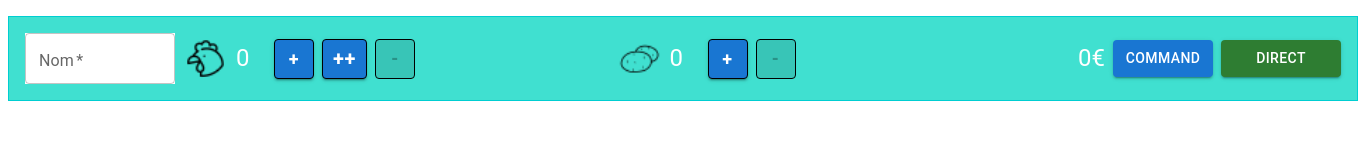
Test: OrderForm › calculates price correctly
The image size is (1366, 160).
Type "Test User" into the field labelled "Nom *" at coordinates (100, 58), box [25,33,175,84]
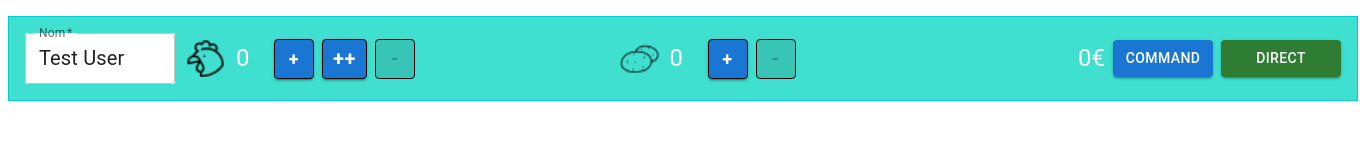
Press the mouse on the button titled "Ajouter un poulet entier" at coordinates (344, 58), box [322,38,367,78]
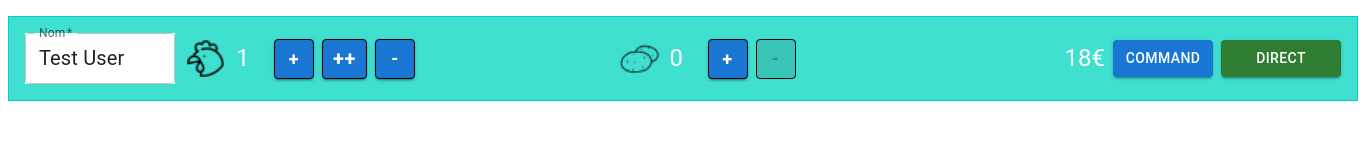
Press the mouse on the 1st button titled "Ajouter un demi poulet" at coordinates (294, 58), box [274,38,314,78]
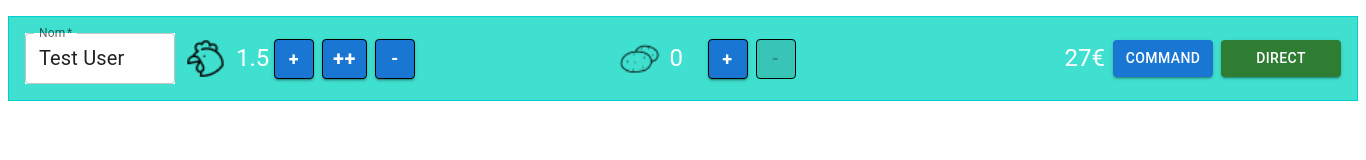
Press the mouse on the 2nd button titled "Ajouter un godet de pommes de terre" at coordinates (728, 58), box [708,38,748,78]
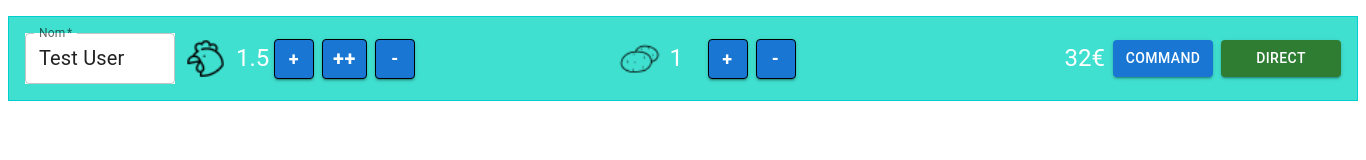
Press the mouse on the 2nd button titled "Ajouter un godet de pommes de terre" at coordinates (728, 58), box [708,38,748,78]
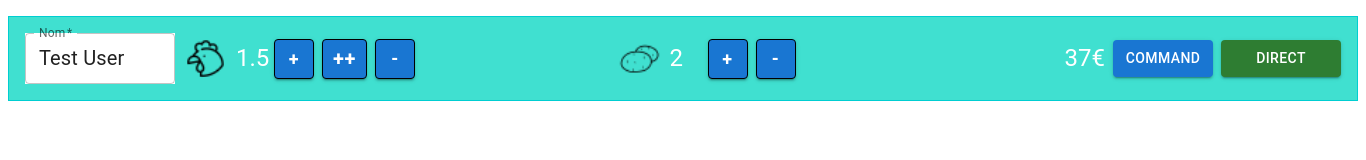
Result: the heading "37€" is shown at [1064,44,1105,72]
